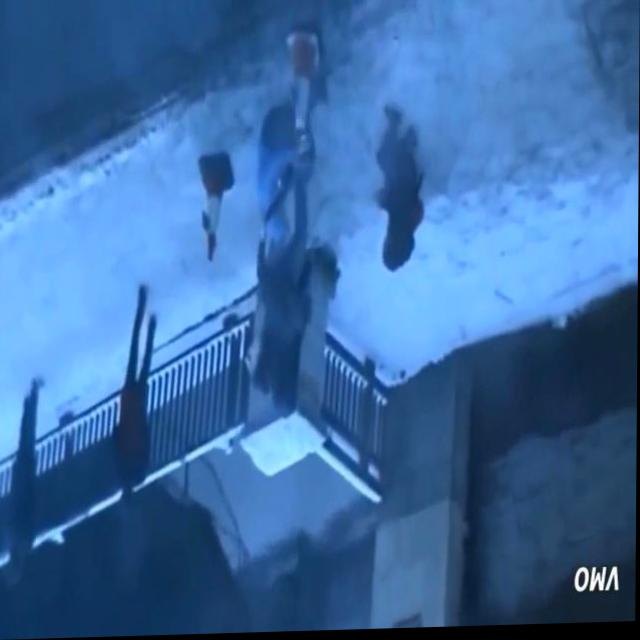fall: (364, 112, 430, 287), (255, 103, 314, 259)
